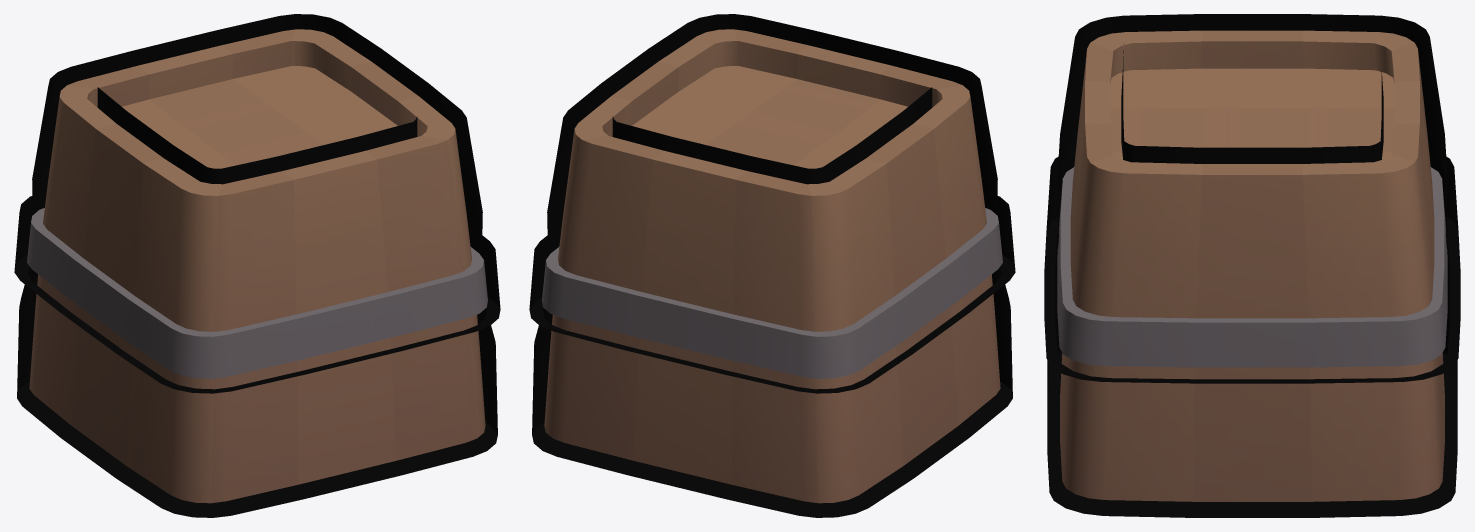
The model's file is archerTower_lvl1_backFaceMesh.fbx.
The picture shows the model from 3 angles, left to right: view 1: azimuth 30°, elevation 25°; view 2: azimuth 150°, elevation 25°; view 3: azimuth 270°, elevation 25°; orthographic projection. The views are drawn at different scales.
Visible parts, largest first — view 1: archerTower_lvl1, archerTower_lvl1_backFace; view 2: archerTower_lvl1, archerTower_lvl1_backFace; view 3: archerTower_lvl1, archerTower_lvl1_backFace.
Part boxes in pixels (box(x1,y1,x2,y2)): archerTower_lvl1: box(27, 29, 487, 503); archerTower_lvl1_backFace: box(14, 14, 500, 517); archerTower_lvl1: box(542, 29, 1002, 503); archerTower_lvl1_backFace: box(529, 14, 1015, 517); archerTower_lvl1: box(1057, 30, 1447, 501); archerTower_lvl1_backFace: box(1044, 14, 1460, 517).
Bounding box in the file's own units: 159 × 141 × 157.
